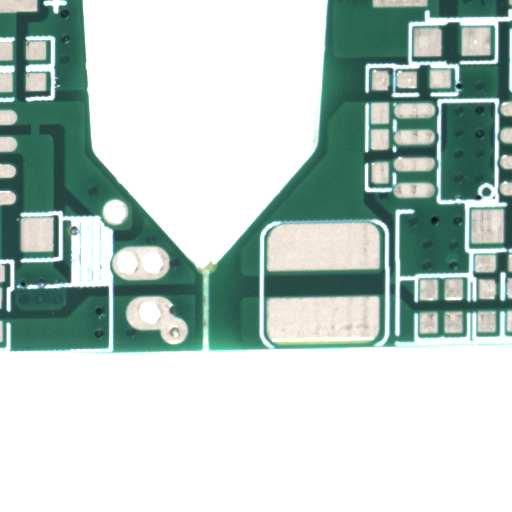Short: (35, 129, 54, 148)
